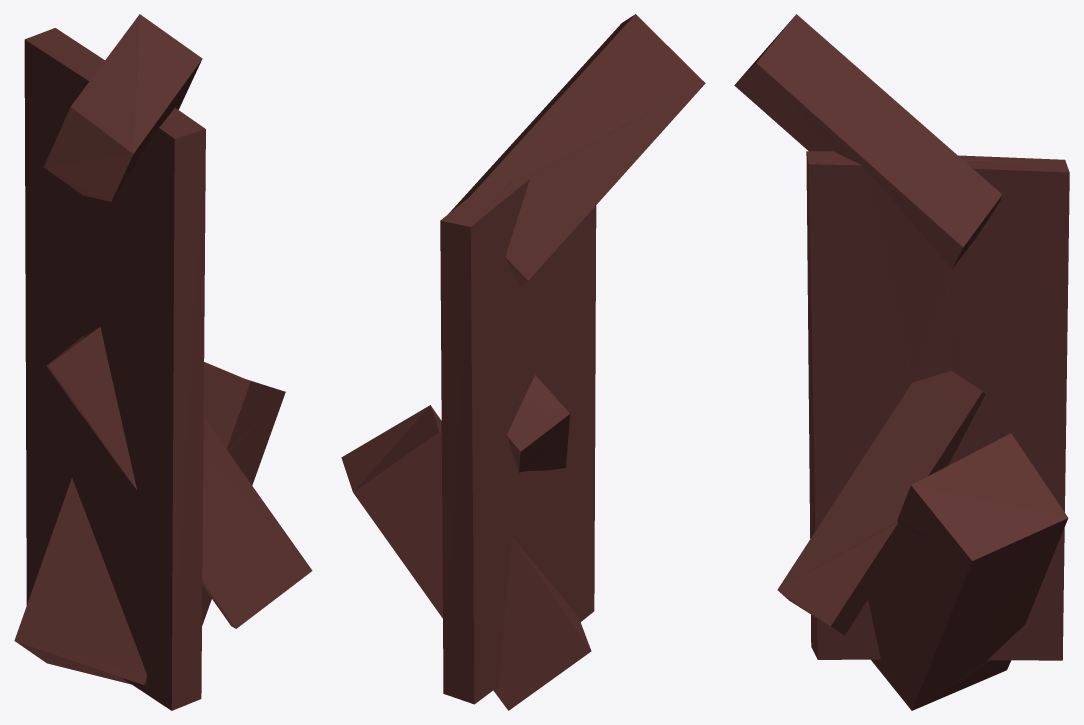
The picture shows the model from 3 angles, left to right: view 1: azimuth 30°, elevation 25°; view 2: azimuth 150°, elevation 25°; view 3: azimuth 270°, elevation 25°; orthographic projection. The views are drawn at different scales.
Visible parts, largest first — view 1: 703_Cube.2824; view 2: 703_Cube.2824; view 3: 703_Cube.2824.
Boxes of the visible parts, x1=… form: 703_Cube.2824: x1=14, y1=14, x2=312, y2=710; 703_Cube.2824: x1=341, y1=14, x2=705, y2=710; 703_Cube.2824: x1=734, y1=14, x2=1069, y2=710.
Size of the model in its own units: 6.95 by 15.49 by 7.21.
